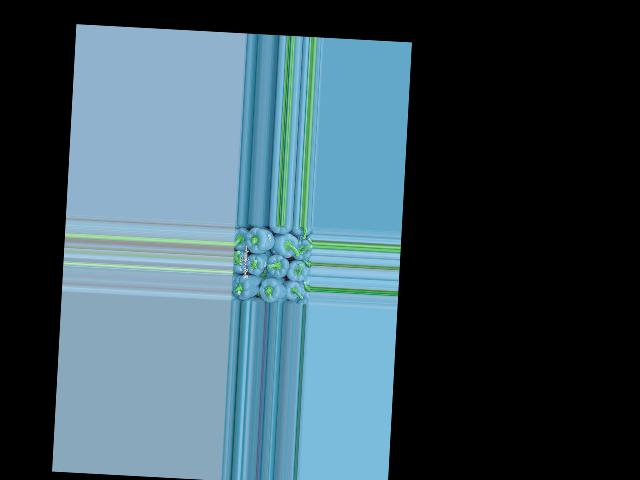bell_pepper: (233, 224, 250, 252)
